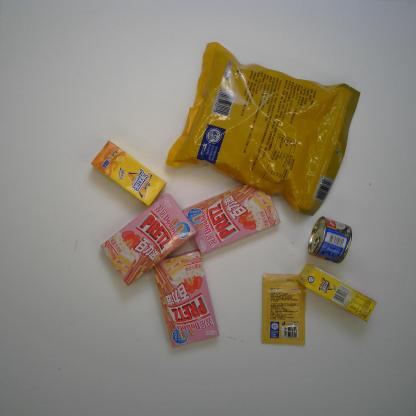Canned Food: (307, 216, 353, 264)
Dessert: (99, 192, 200, 288), (181, 183, 282, 258), (152, 248, 221, 348)
Dried Food: (165, 41, 362, 218)
Drink: (89, 139, 168, 208), (296, 262, 378, 324)
Seasoner: (260, 272, 307, 346)
